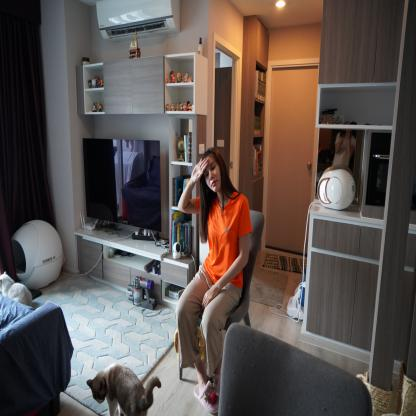Sick: (186, 154, 213, 184)
